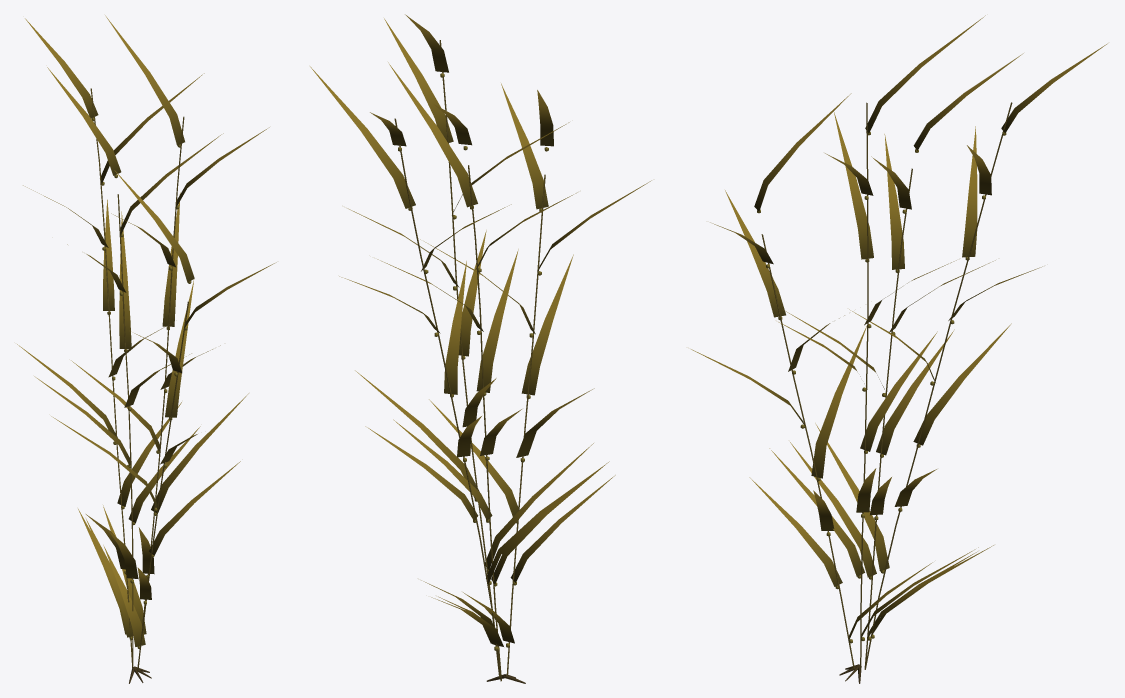
File: kelp-giant-a.lod1.glb
3 renders of one model, left to right at view 1: azimuth 30°, elevation 25°; view 2: azimuth 150°, elevation 25°; view 3: azimuth 270°, elevation 25°, orthographic. The views are drawn at different scales.
Parts seen in each view (by area): view 1: kelp-giant-a.lod1; view 2: kelp-giant-a.lod1; view 3: kelp-giant-a.lod1.
Part boxes in pixels (x1=…): kelp-giant-a.lod1: x1=17, y1=15, x2=276, y2=683; kelp-giant-a.lod1: x1=310, y1=14, x2=651, y2=683; kelp-giant-a.lod1: x1=691, y1=15, x2=1107, y2=683.
Bounding box in the file's own units: 2.37 × 6.74 × 3.85.
